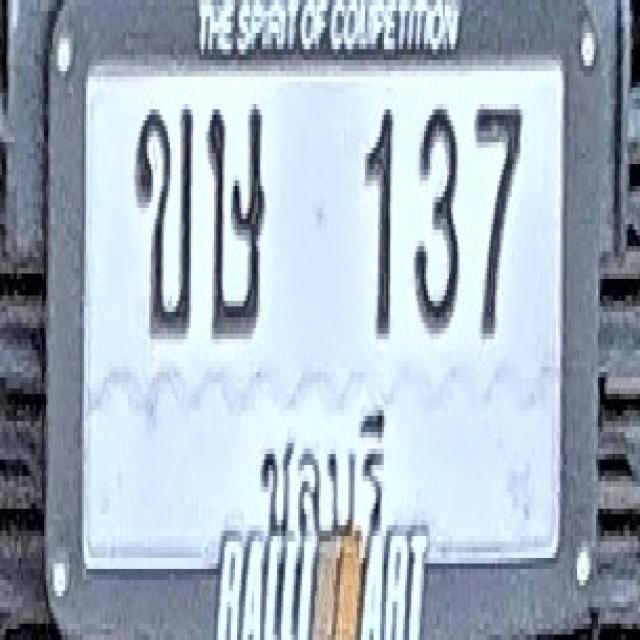1: (363, 104, 392, 339)
3: (412, 104, 458, 334)
7: (473, 101, 522, 336)
A02: (133, 104, 192, 339)
A39: (207, 101, 266, 336)
CBI: (246, 387, 386, 543)
